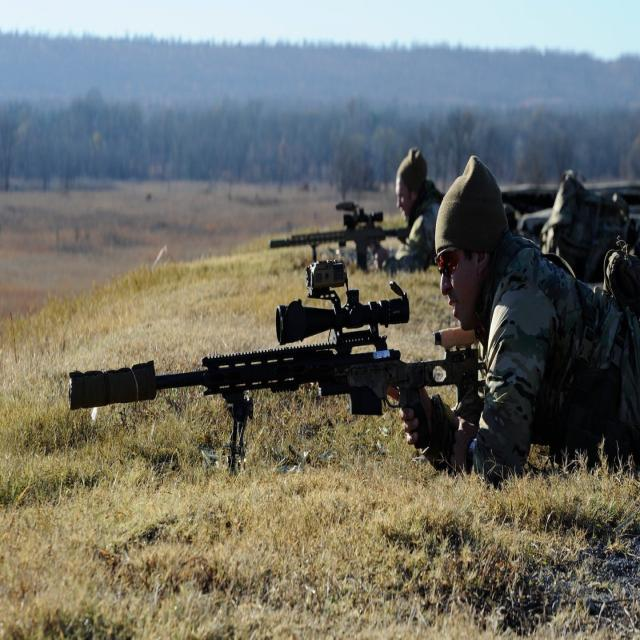Rifle: (71, 301, 480, 427), (270, 202, 411, 271)
